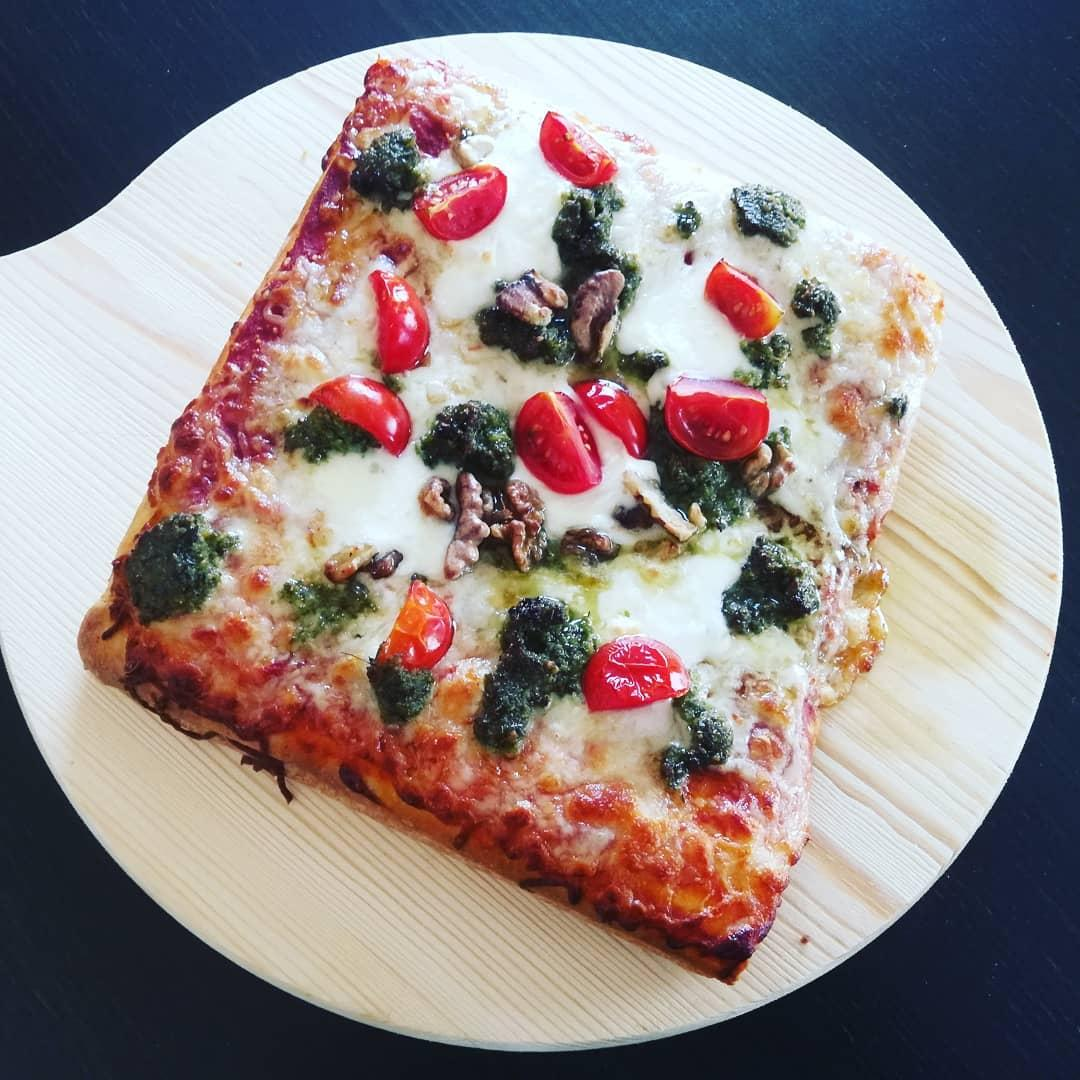Pizza: (97, 58, 940, 980)
Tomatoes: (665, 372, 770, 462), (514, 390, 603, 495), (413, 164, 509, 243), (585, 634, 692, 704), (316, 378, 410, 451), (380, 580, 456, 668), (704, 260, 786, 338), (373, 271, 432, 377), (538, 110, 618, 185), (576, 378, 647, 456)
